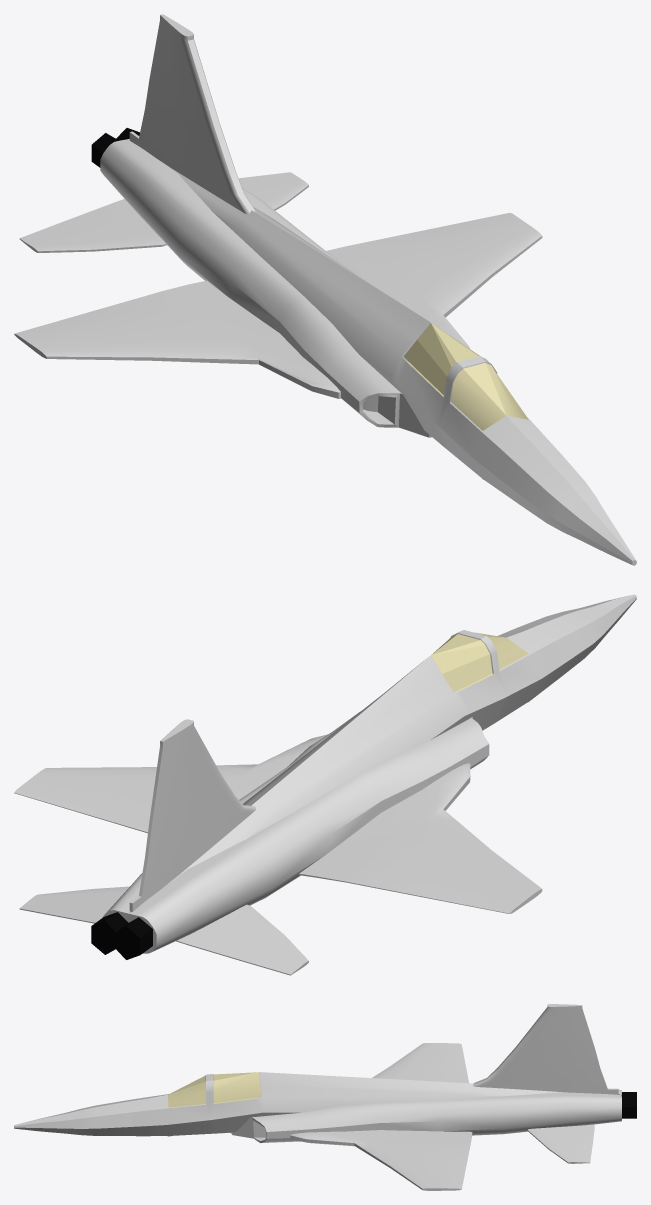
3 renders of one model, top to bottom at view 1: azimuth 30°, elevation 25°; view 2: azimuth 150°, elevation 25°; view 3: azimuth 270°, elevation 25°, orthographic. The views are drawn at different scales.
Visible parts, largest first — view 1: Wings, Mainframe, Intakes, Tail, TailWings, windows; view 2: Wings, Mainframe, Intakes, Tail, TailWings, windows, Engine; view 3: Mainframe, Intakes, Wings, Tail, windows, TailWings, Engine.
Part boxes in pixels (<box>): Wings: <box>14,213,542,398</box>; Mainframe: <box>161,161,636,565</box>; Intakes: <box>100,139,431,437</box>; Tail: <box>129,14,255,214</box>; TailWings: <box>19,172,308,252</box>; windows: <box>403,323,528,430</box>; Wings: <box>14,734,542,913</box>; Mainframe: <box>129,594,636,913</box>; Intakes: <box>102,712,489,953</box>; Tail: <box>129,719,256,912</box>; TailWings: <box>19,886,308,975</box>; windows: <box>431,632,528,692</box>; Engine: <box>91,912,152,959</box>; Mainframe: <box>14,1072,567,1136</box>; Intakes: <box>231,1089,621,1142</box>; Wings: <box>290,1043,472,1190</box>; Tail: <box>473,1004,618,1094</box>; windows: <box>168,1072,261,1107</box>; TailWings: <box>528,1124,594,1163</box>; Engine: <box>619,1092,636,1118</box>.
Size of the model in its own units: 1.88 by 0.7824 by 3.41.
